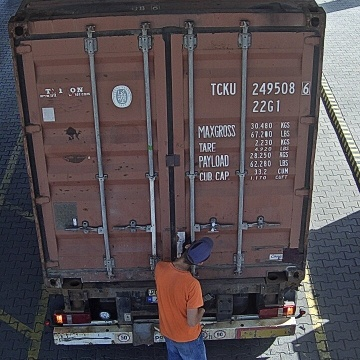serial_id: (211, 81, 310, 95)
